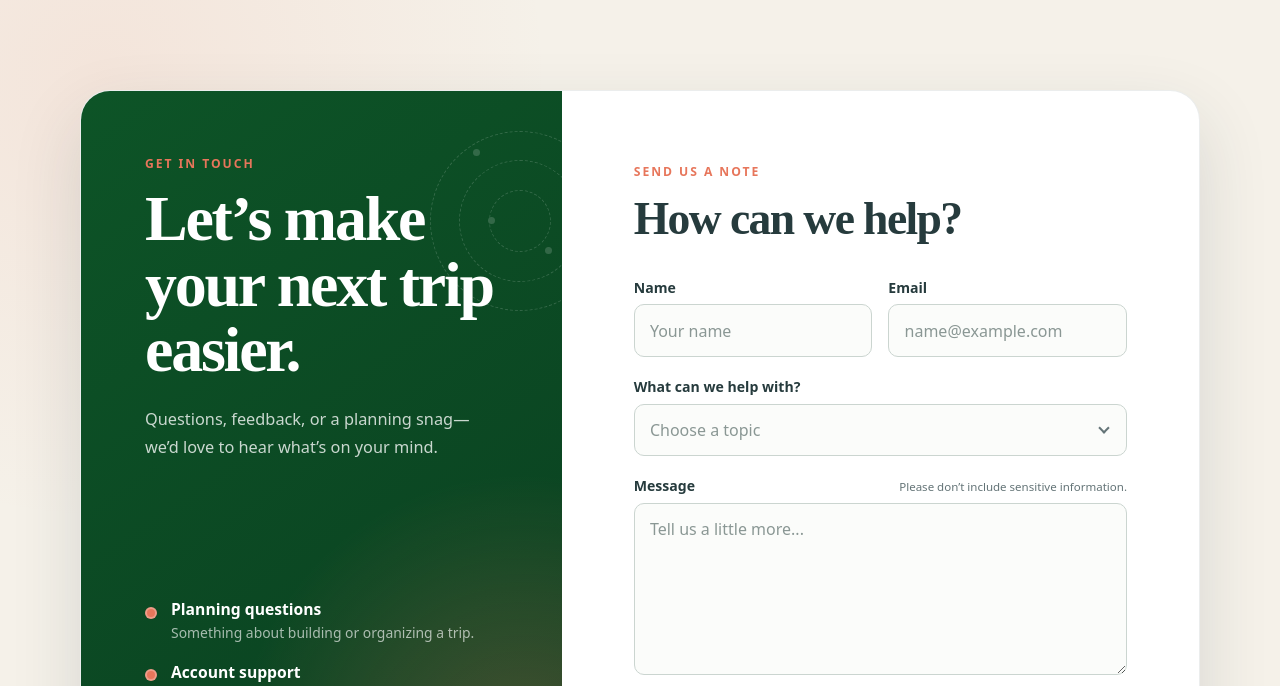
ContactUs component › offers the expected contact topics
Step 1. Click the button named "what can we help with" → (705, 430), box [634,404,1127,456]
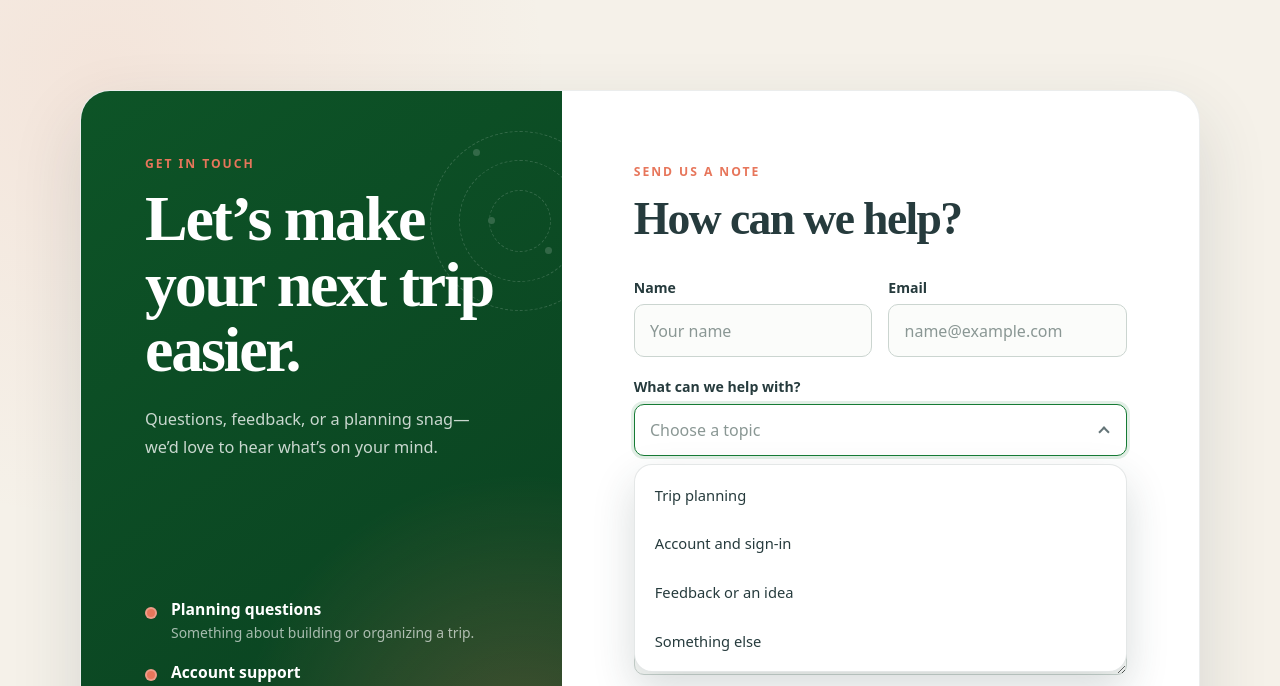
Now the option "Account and sign-in" is shown, box [643,522,1118,565]
Now the option "Feedback or an idea" is shown, box [643,570,1118,614]
Now the option "Something else" is shown, box [643,619,1118,662]
